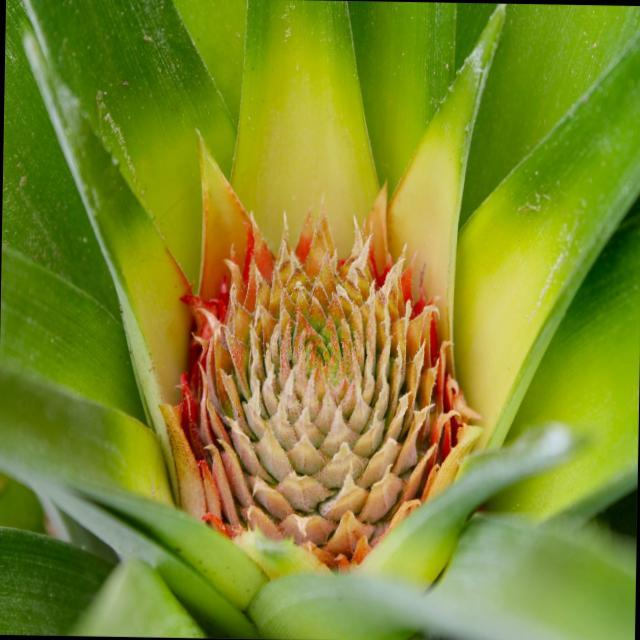PINEAPLE: (160, 192, 462, 574)
